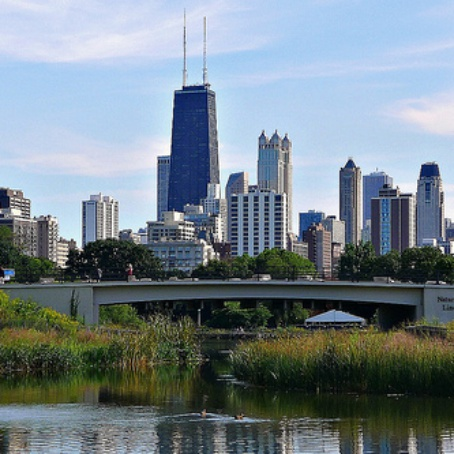bridge: (59, 259, 419, 328)
building: (152, 74, 218, 207), (221, 189, 290, 253), (141, 215, 218, 269), (368, 182, 413, 255), (1, 213, 55, 268), (411, 158, 443, 240), (255, 131, 297, 193), (295, 205, 332, 270), (80, 191, 121, 247), (337, 160, 363, 245)
river: (15, 345, 438, 454)
sky: (1, 1, 449, 160)
